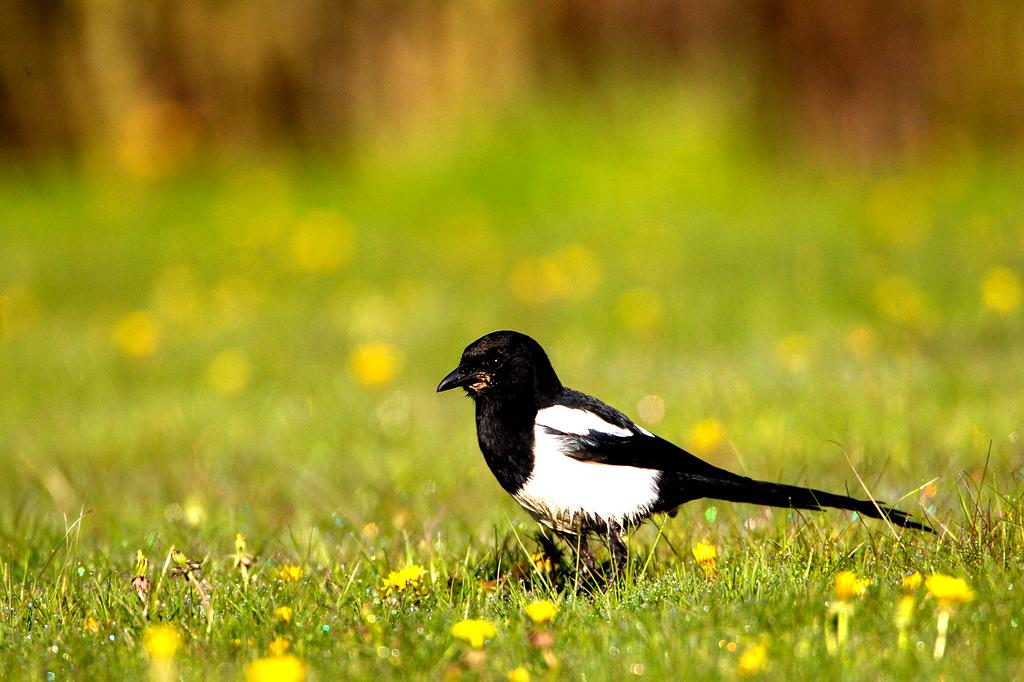PicaPica: (436, 329, 938, 598)
